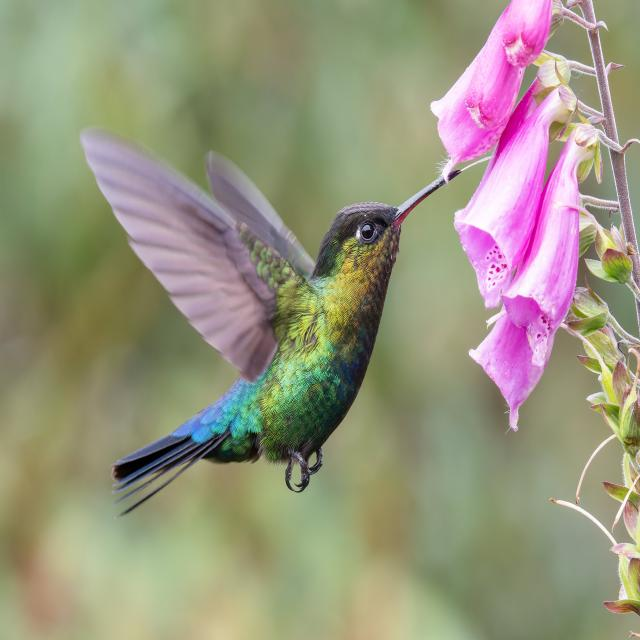Humming Bird: (115, 157, 462, 518)
